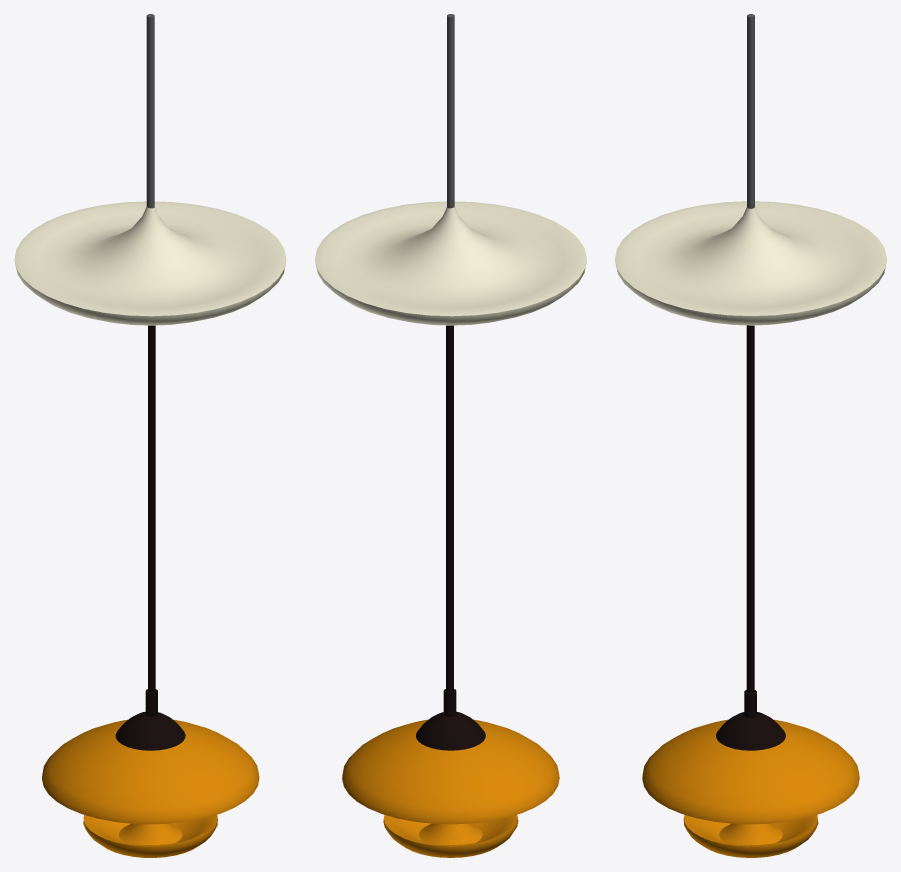
Rendered from SingleLamp.fbx.
3 views of the same model, side by side, from view 1: azimuth 30°, elevation 25°; view 2: azimuth 150°, elevation 25°; view 3: azimuth 270°, elevation 25° (orthographic).
Visible parts, largest first — view 1: Top, Lamp, WireMain, Lower; view 2: Top, Lamp, WireMain, Lower; view 3: Top, Lamp, WireMain, Lower.
Boxes of the visible parts, x1,y1,x2,y2 form: Top: (14, 14, 286, 325); Lamp: (42, 719, 259, 857); WireMain: (148, 325, 155, 692); Lower: (115, 689, 185, 750); Top: (315, 14, 586, 325); Lamp: (342, 719, 559, 857); WireMain: (446, 325, 453, 692); Lower: (416, 689, 485, 750); Top: (615, 14, 886, 325); Lamp: (642, 719, 859, 857); WireMain: (746, 325, 754, 693); Lower: (716, 690, 785, 750).
Size of the model in its own units: 1.85 by 6.23 by 1.85.
